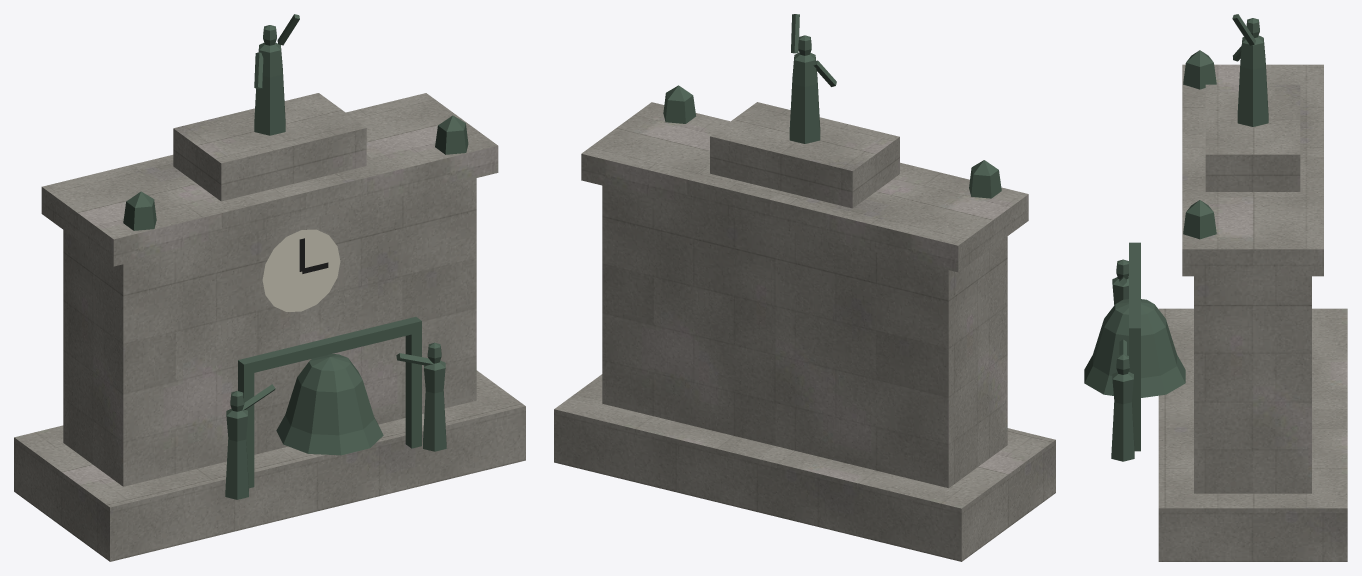
File: new_york_life_clock_paramount.glb
3 renders of one model, left to right at view 1: azimuth 30°, elevation 25°; view 2: azimuth 150°, elevation 25°; view 3: azimuth 270°, elevation 25°, orthographic.
Visible parts, largest first — view 1: new_york_life_clock_paramount; view 2: new_york_life_clock_paramount; view 3: new_york_life_clock_paramount.
Part boxes in pixels (x1,y1,x2,y2): new_york_life_clock_paramount: (14,14,525,561); new_york_life_clock_paramount: (554,14,1055,561); new_york_life_clock_paramount: (1084,14,1347,561).
Bounding box in the file's own units: 8 × 8.52 × 4.46.
2 materials, 2 textured.
